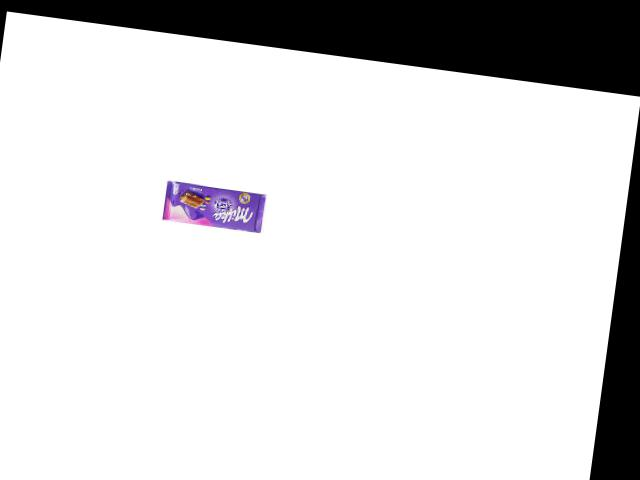chocolate: (162, 179, 267, 233)
